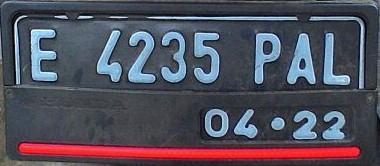clone-license-plate: (12, 11, 365, 145)
